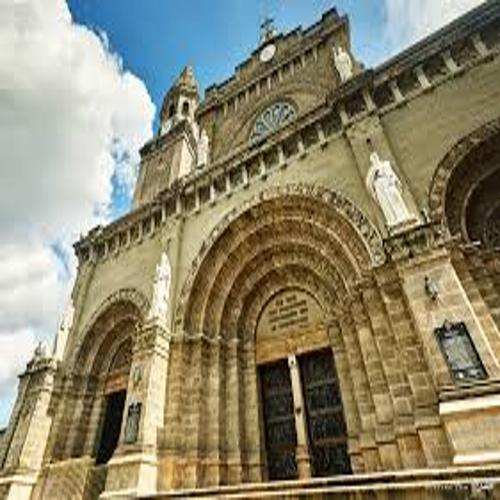Manila Cathedral Church: (7, 18, 500, 492)
